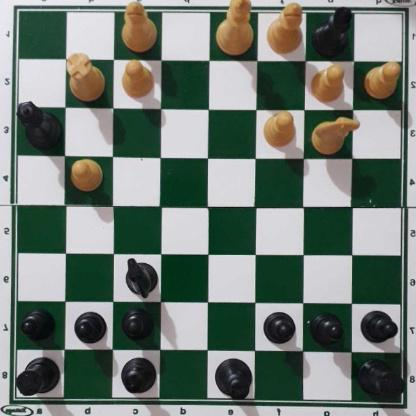black-bishop: (312, 5, 354, 58), (117, 358, 158, 395)
black-king: (214, 358, 255, 401)
black-knight: (122, 258, 159, 298)
black-pawn: (360, 311, 396, 347), (20, 312, 54, 345), (263, 313, 295, 347), (311, 316, 343, 349), (73, 312, 104, 346), (121, 311, 152, 345)
black-queen: (17, 100, 61, 152)
black-rook: (12, 358, 60, 400), (358, 361, 404, 404)
white-bishop: (121, 2, 158, 55), (265, 5, 302, 55)
white-king: (215, 0, 253, 56)
white-knight: (308, 115, 362, 158)
white-pawn: (308, 65, 346, 106), (120, 61, 154, 102), (67, 159, 105, 195), (363, 64, 400, 100), (262, 112, 295, 150)
white-rook: (65, 53, 105, 105)
